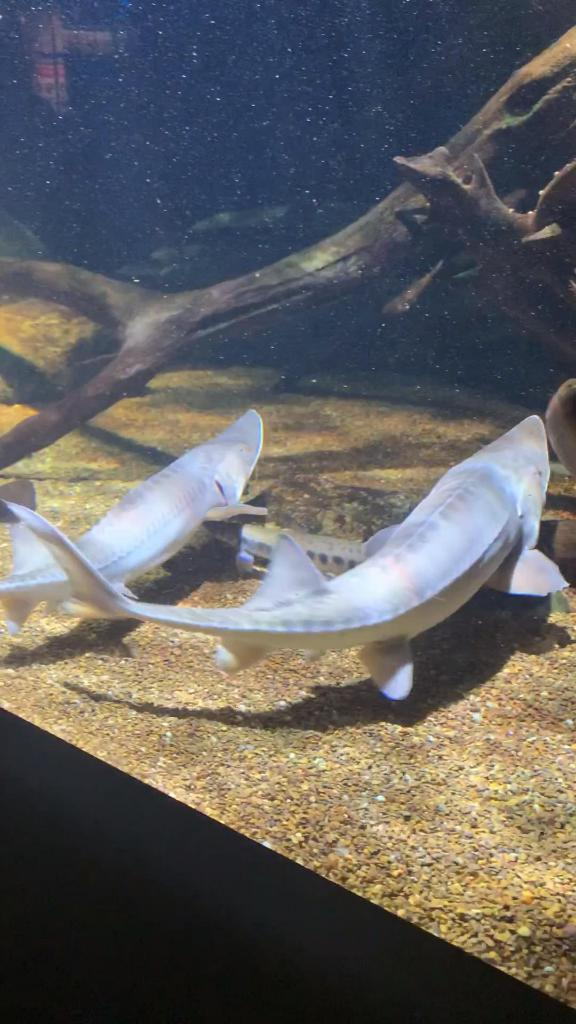shark: (0, 412, 572, 704), (0, 406, 272, 640)
